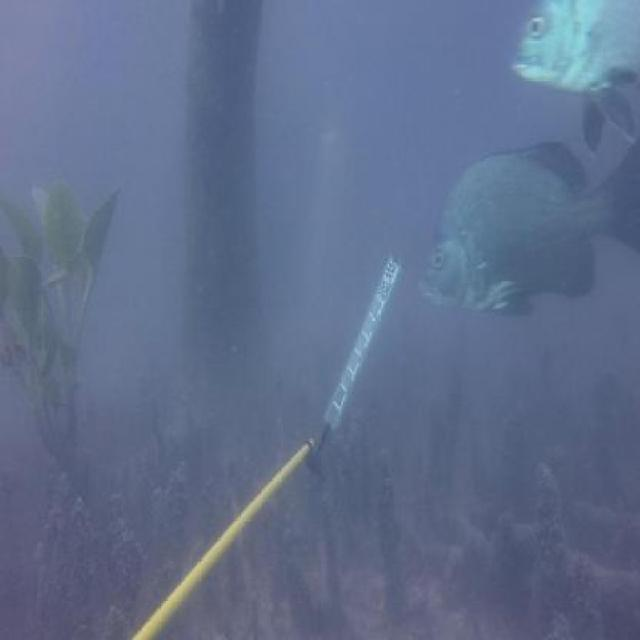acanthopagrus_palmaris: (417, 139, 640, 330), (509, 0, 640, 152)
